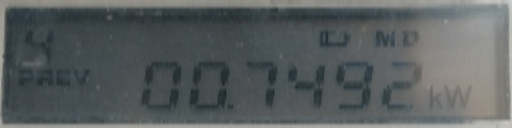0: (187, 52, 231, 113), (140, 54, 181, 115)
2: (380, 53, 425, 115)
4: (286, 52, 326, 115)
7: (243, 52, 282, 116)
9: (332, 58, 376, 119)
d: (223, 101, 240, 112)
